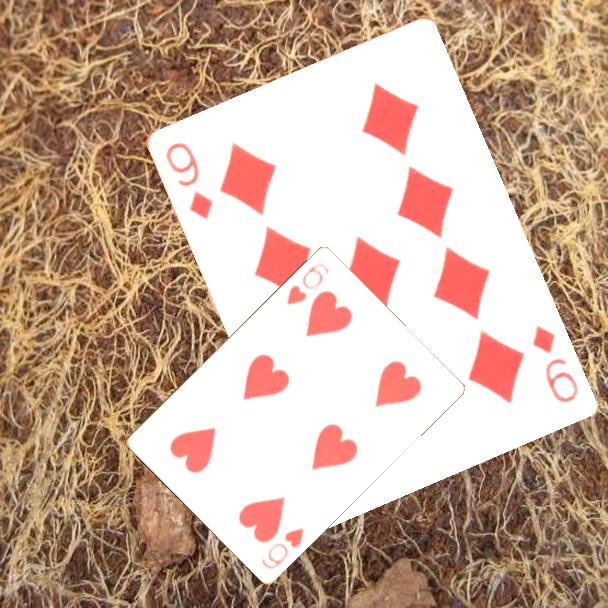d09: (161, 138, 216, 223), (528, 321, 581, 406)
h06: (283, 259, 332, 308), (258, 524, 307, 572)
